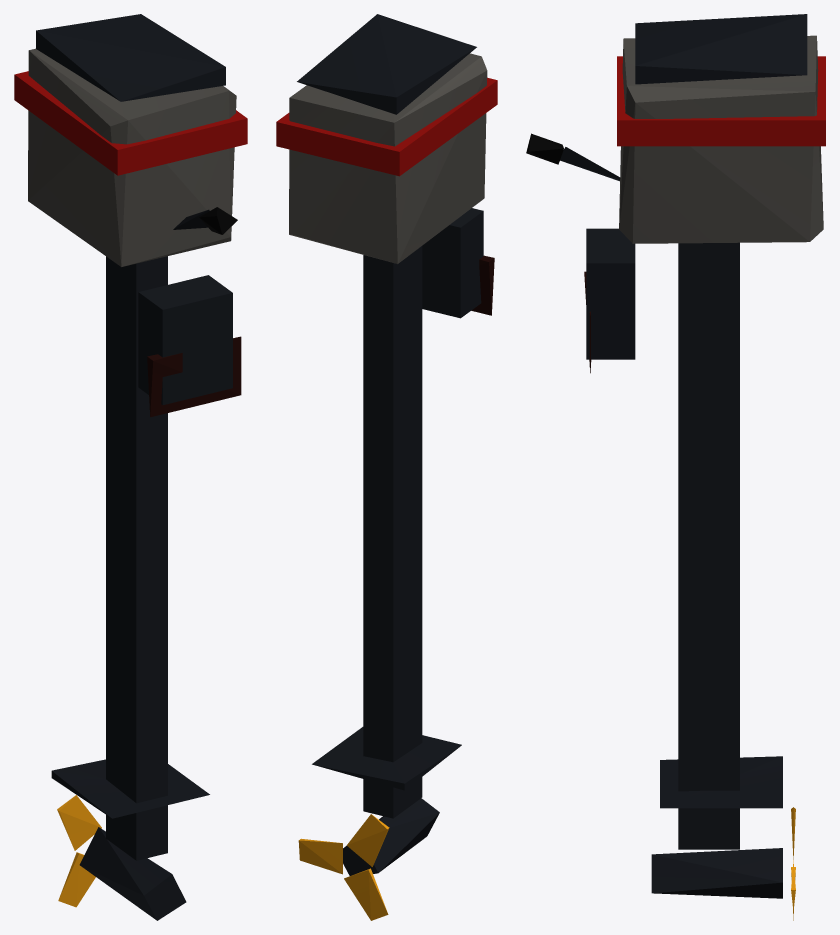
File: tb_upg_outboard.three-web-toon.lod50.glb
3 renders of one model, left to right at view 1: azimuth 30°, elevation 25°; view 2: azimuth 150°, elevation 25°; view 3: azimuth 270°, elevation 25°, orthographic. The views are drawn at different scales.
Parts seen in each view (by area): view 1: tb_upg_outboard_mesh_lod; view 2: tb_upg_outboard_mesh_lod; view 3: tb_upg_outboard_mesh_lod.
Part boxes in pixels (left/top/right/bottom): tb_upg_outboard_mesh_lod: left=14, top=14, right=247, bottom=920; tb_upg_outboard_mesh_lod: left=276, top=14, right=497, bottom=920; tb_upg_outboard_mesh_lod: left=526, top=14, right=825, bottom=920.
Bounding box in the file's own units: 0.37 × 2.4 × 0.7318.
